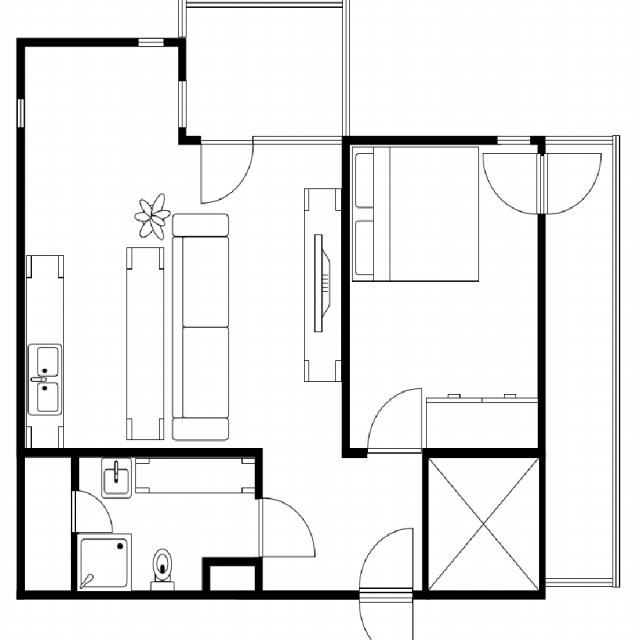door: (358, 531, 412, 599), (536, 154, 596, 212), (484, 154, 544, 212), (367, 391, 417, 457), (202, 135, 252, 200), (255, 499, 312, 555), (70, 489, 115, 531)
